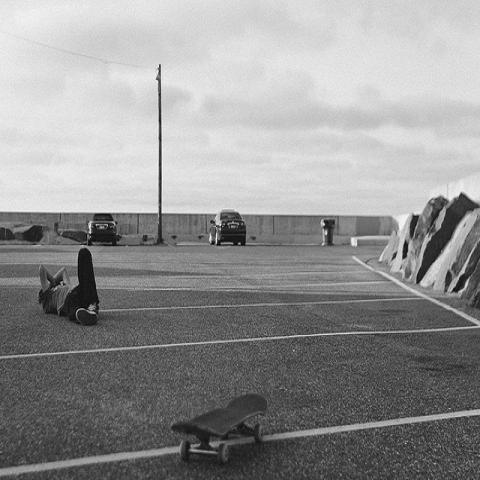car: (209, 207, 246, 246), (84, 212, 118, 246)
